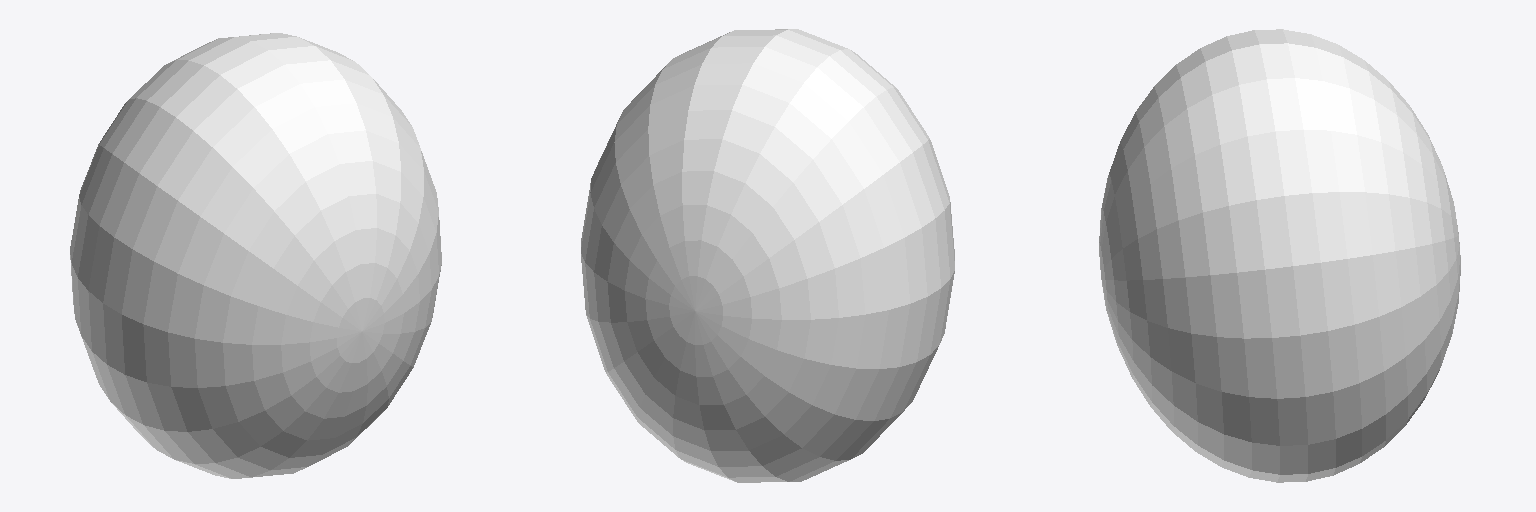
Rendered from eye.obj.
3 renders of one model, left to right at view 1: azimuth 30°, elevation 25°; view 2: azimuth 150°, elevation 25°; view 3: azimuth 270°, elevation 25°, orthographic.
Parts seen in each view (by area): view 1: pasted__pSphere48 group; view 2: pasted__pSphere48 group; view 3: pasted__pSphere48 group.
Boxes of the visible parts, box(x1,y1,x2,y2) form: pasted__pSphere48 group: box(70, 33, 441, 478); pasted__pSphere48 group: box(581, 29, 954, 482); pasted__pSphere48 group: box(1099, 29, 1460, 482).
Size of the model in its own units: 3.47 by 4.31 by 3.32.